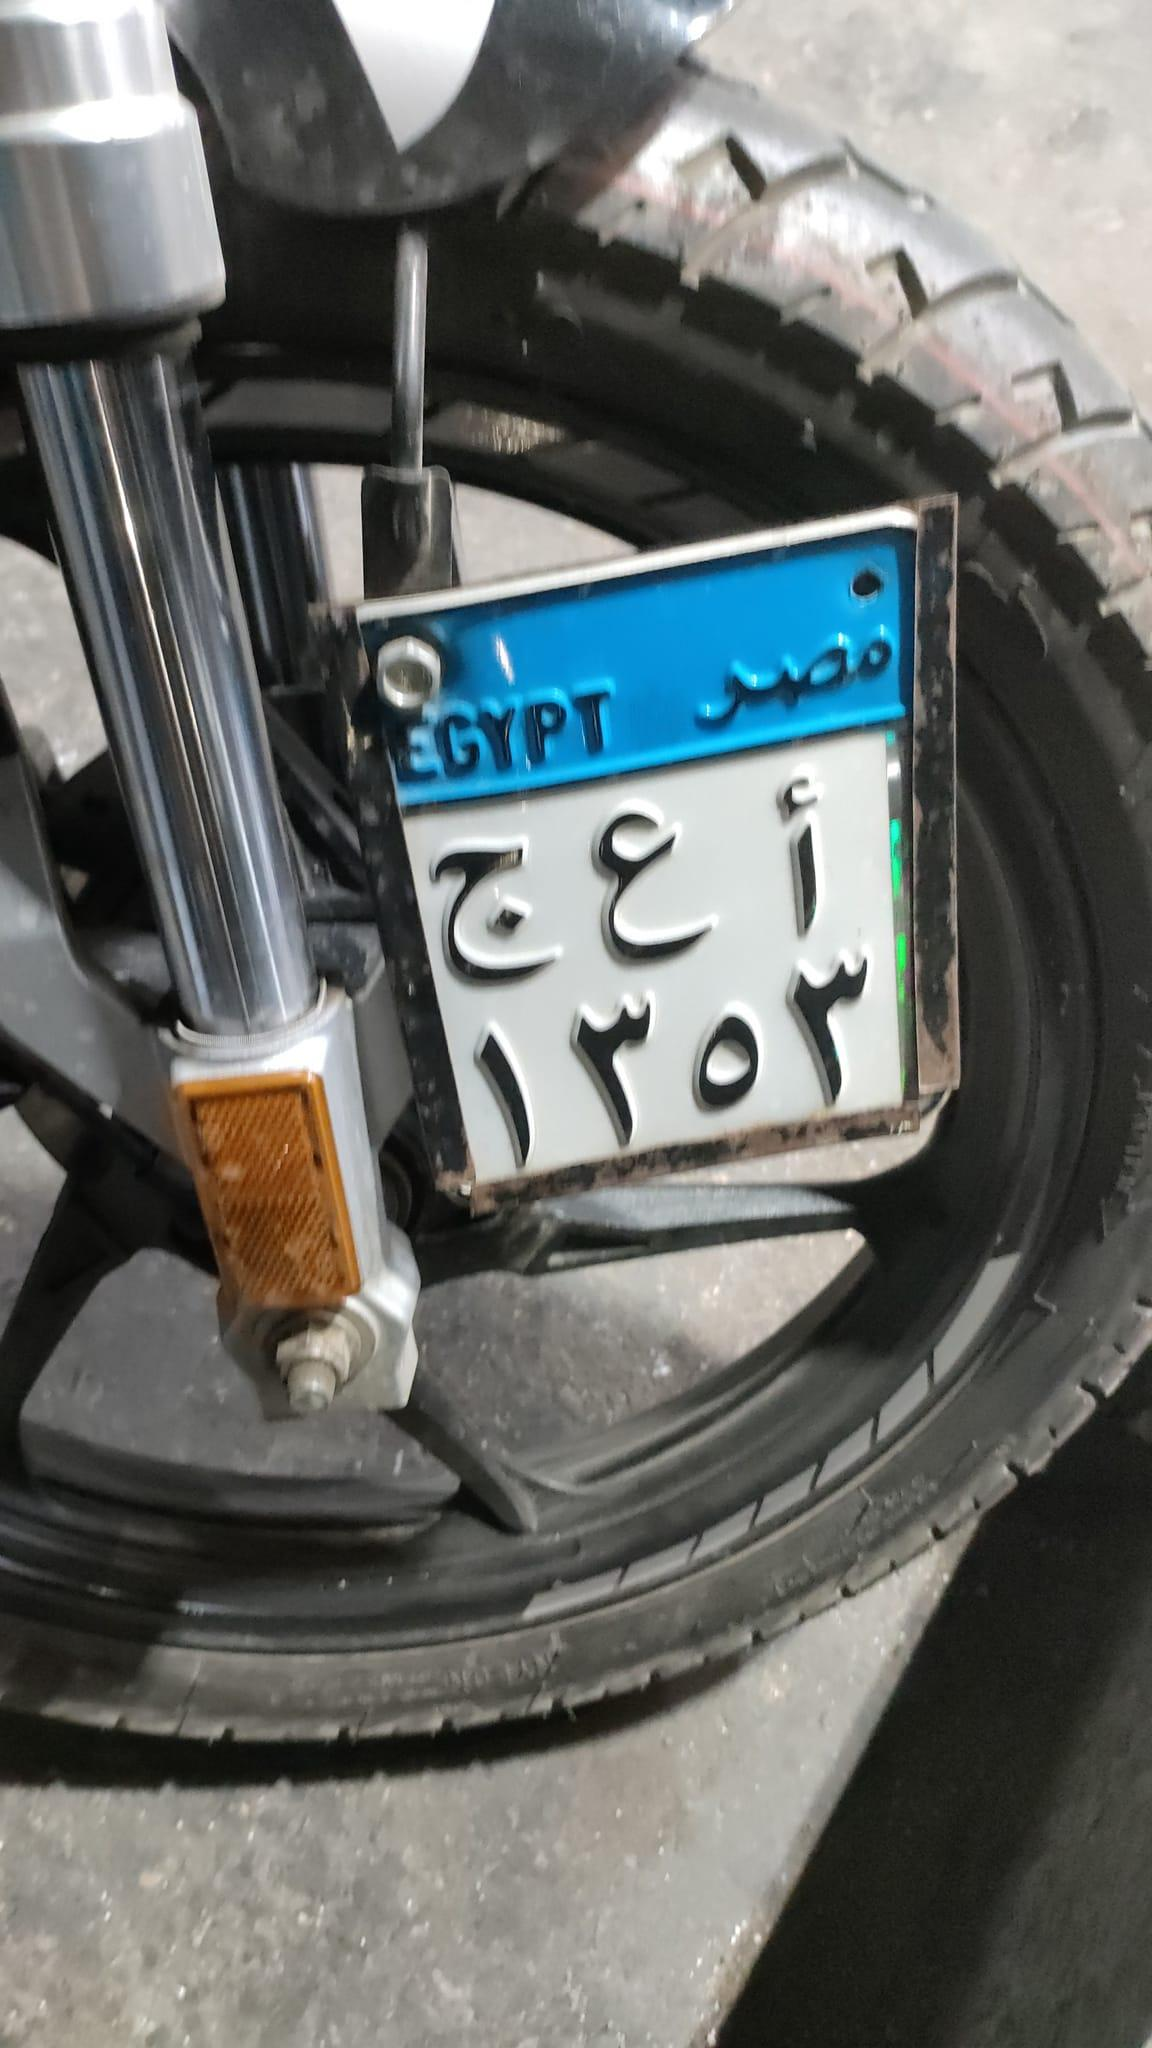License Plate: (365, 557, 952, 1226)
